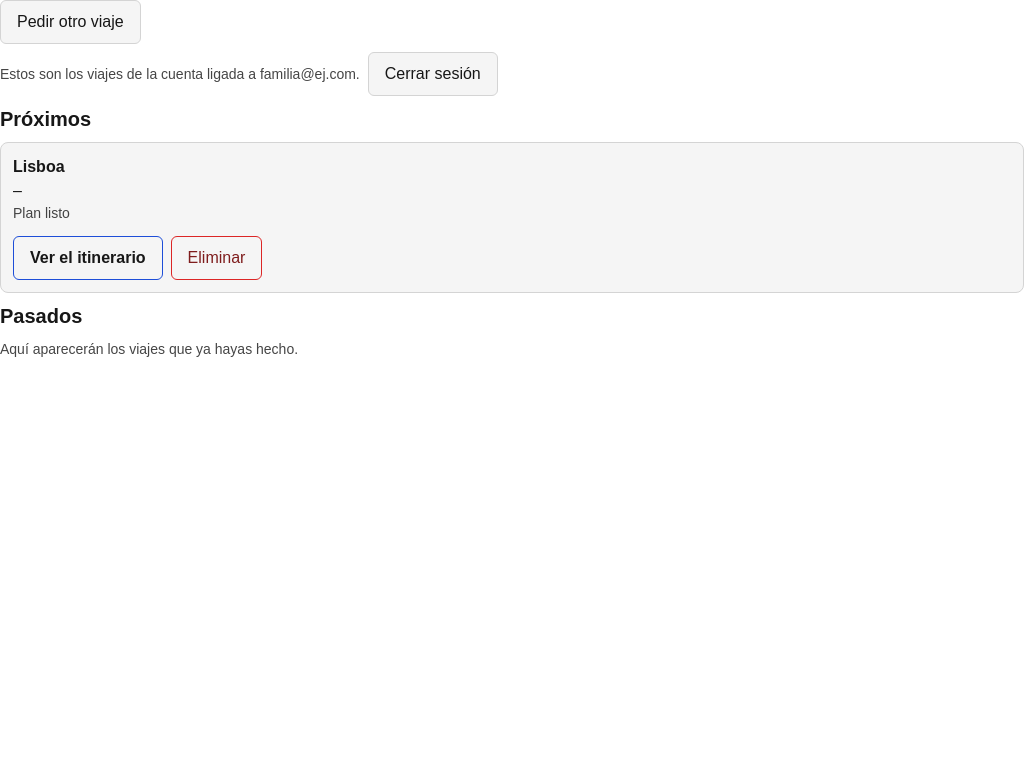
PanelViajes -- confirmación de borrado (borrar-ac4) › confirmar elimina de verdad: el viaje desaparece de la lista tras un DELETE exitoso
The width and height of the screenshot is (1024, 768).
Expected: the text "Lisboa" is shown, [13, 158, 65, 175]
Click the button "Eliminar" at x=216, y=258, box [171, 236, 262, 280]
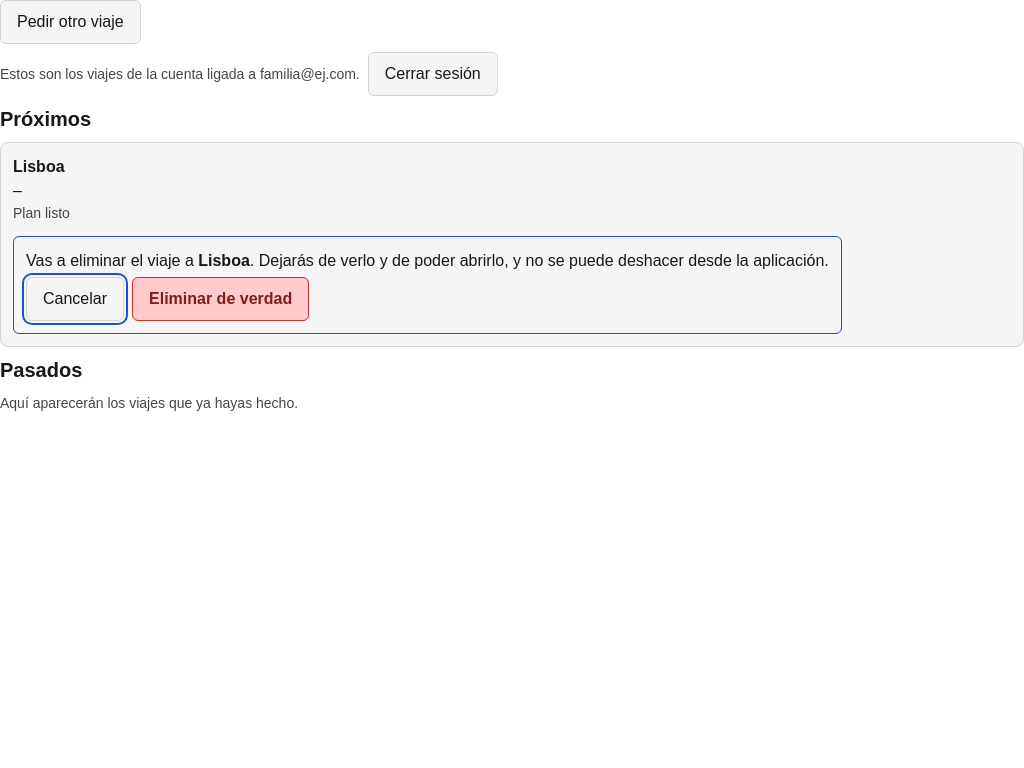
Click the button "Eliminar de verdad" at x=221, y=299, box [132, 277, 309, 321]
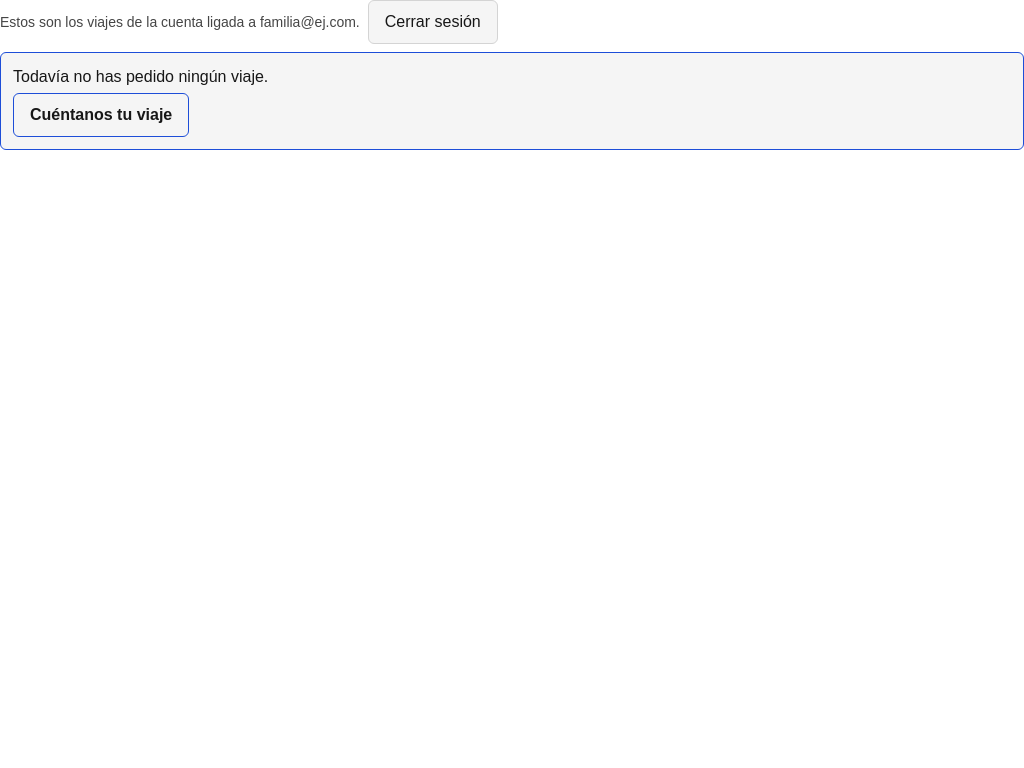
Now the text "Lisboa" is gone
